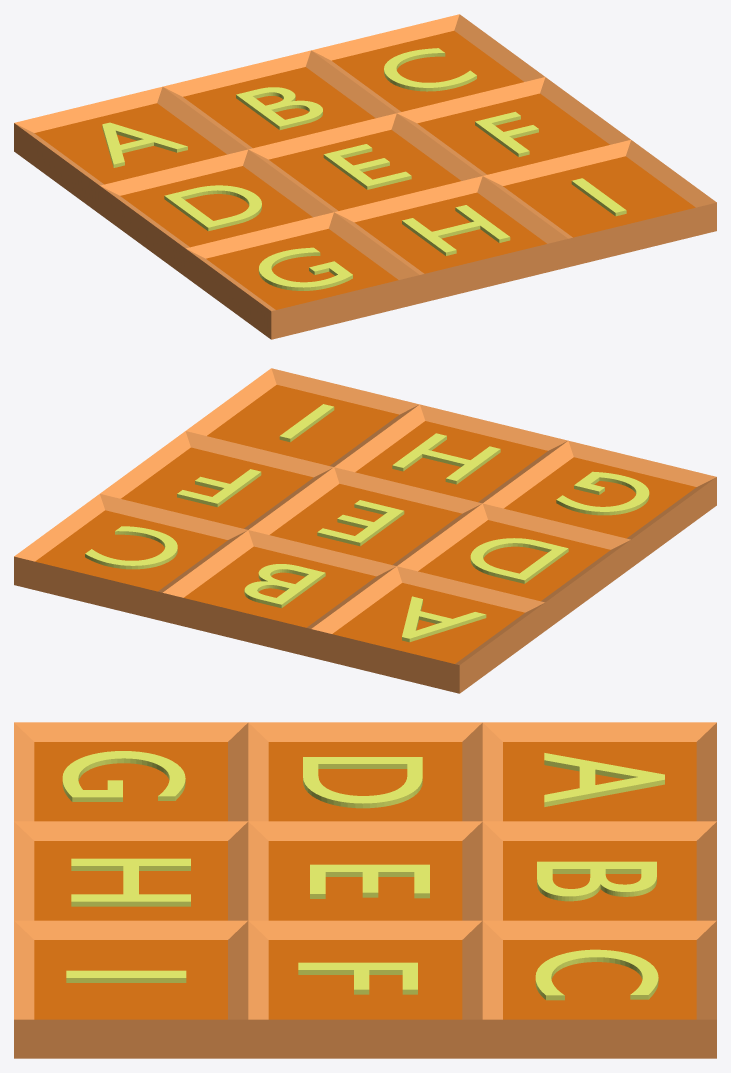
File: ufo_board1.glb
3 renders of one model, top to bottom at view 1: azimuth 30°, elevation 25°; view 2: azimuth 150°, elevation 25°; view 3: azimuth 270°, elevation 25°, orthographic. The views are drawn at different scales.
Visible parts, largest first — view 1: 立方体, 文本.003, 文本.001, 文本.006, 文本.007, 文本.004, 文本.002, 文本, 文本.005, 文本.008; view 2: 立方体, 文本.003, 文本.001, 文本.006, 文本.007, 文本.004, 文本.002, 文本, 文本.005, 文本.008; view 3: 立方体, 文本.003, 文本.001, 文本.007, 文本.006, 文本, 文本.002, 文本.004, 文本.005, 文本.008.
Boxes of the visible parts, x1,y1,x2,y2 form: 立方体: [14, 14, 716, 339]; 文本.003: [164, 185, 261, 231]; 文本.001: [236, 87, 322, 129]; 文本.006: [258, 247, 352, 290]; 文本.007: [402, 205, 510, 255]; 文本.004: [323, 144, 411, 189]; 文本.002: [384, 48, 476, 91]; 文本: [102, 122, 187, 167]; 文本.005: [475, 111, 538, 156]; 文本.008: [571, 178, 626, 216]; 立方体: [14, 368, 716, 693]; 文本.003: [470, 538, 568, 583]; 文本.001: [244, 564, 325, 608]; 文本.006: [556, 471, 649, 515]; 文本.007: [392, 433, 500, 484]; 文本.004: [317, 500, 404, 546]; 文本.002: [85, 526, 177, 569]; 文本: [402, 596, 486, 642]; 文本.005: [177, 469, 261, 507]; 文本.008: [279, 404, 334, 442]; 立方体: [14, 722, 716, 1058]; 文本.003: [303, 757, 422, 808]; 文本.001: [537, 861, 656, 901]; 文本.007: [71, 858, 190, 906]; 文本.006: [62, 751, 185, 801]; 文本: [544, 753, 664, 806]; 文本.002: [535, 949, 658, 1000]; 文本.004: [310, 864, 429, 898]; 文本.005: [298, 962, 417, 994]; 文本.008: [66, 970, 186, 982].
Bounding box in the file's own units: 0.6 × 0.0367 × 0.6.
